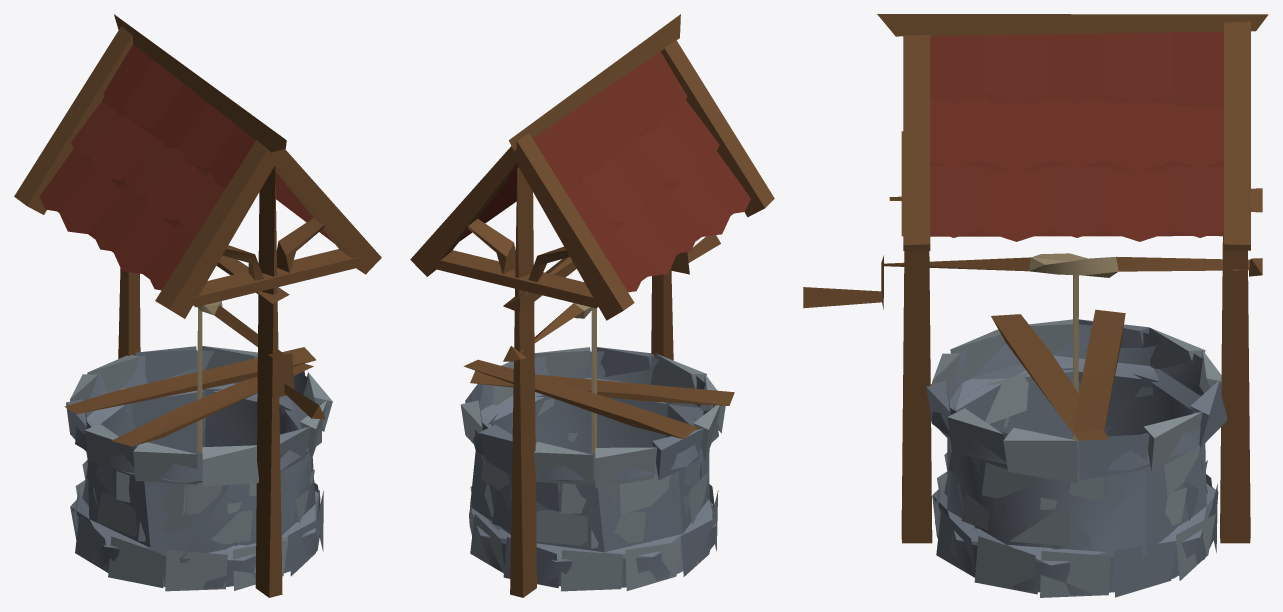
File: Well LOD1.fbx
3 views of the same model, side by side, from view 1: azimuth 30°, elevation 25°; view 2: azimuth 150°, elevation 25°; view 3: azimuth 270°, elevation 25° (orthographic). The views are drawn at different scales.
Visible parts, largest first — view 1: Well; view 2: Well; view 3: Well.
Part boxes in pixels (x1=…): Well: x1=14, y1=14, x2=381, y2=597; Well: x1=410, y1=14, x2=774, y2=597; Well: x1=803, y1=14, x2=1268, y2=597.
Size of the model in its own units: 65.87 by 125 by 101.
